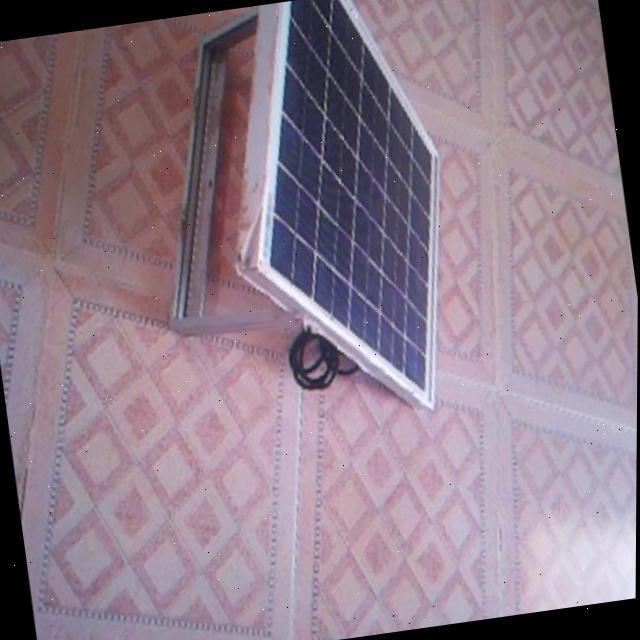Normal Solar Panel: (201, 0, 475, 432)
